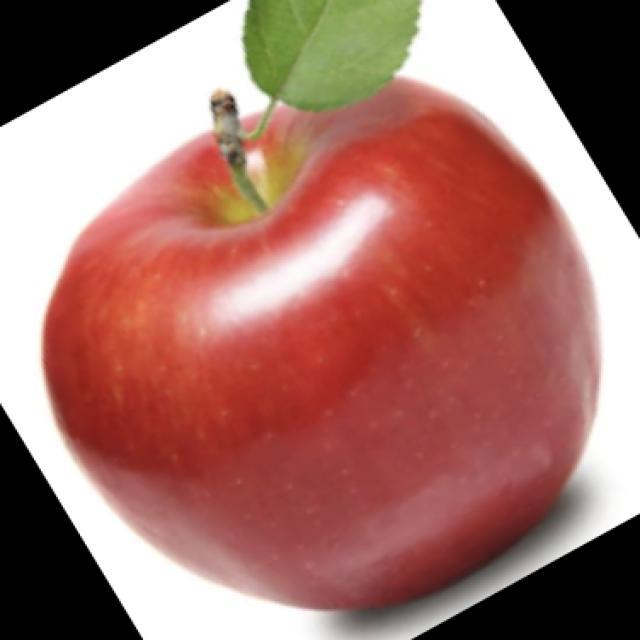Fresh Apple: (87, 99, 590, 584)
